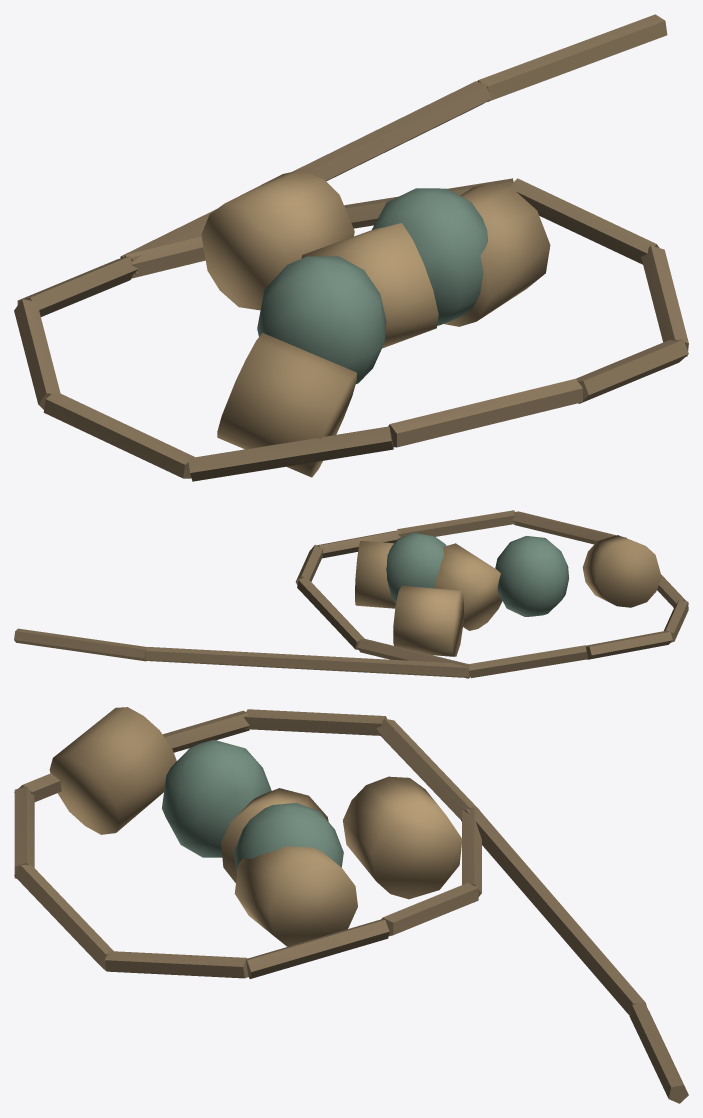
The model's file is float_bundle_b_lod1.glb.
3 renders of one model, top to bottom at view 1: azimuth 30°, elevation 25°; view 2: azimuth 150°, elevation 25°; view 3: azimuth 270°, elevation 25°, orthographic. The views are drawn at different scales.
Parts seen in each view (by area): view 1: Surface.001; view 2: Surface.001; view 3: Surface.001.
Boxes of the visible parts, x1,y1,x2,y2 form: Surface.001: (14,14,688,481); Surface.001: (14,510,688,678); Surface.001: (14,707,688,1103).
Bounding box in the file's own units: 2.18 × 0.3364 × 1.72.
